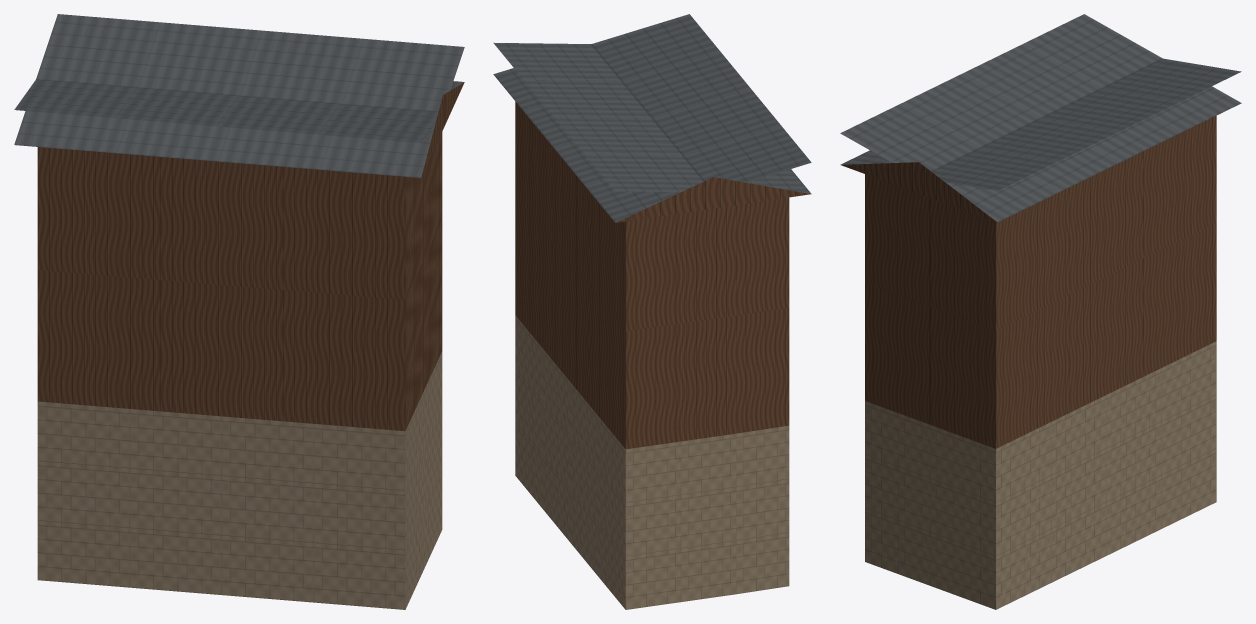
The model's file is bld_c43_45_199.gltf.
3 views of the same model, side by side, from view 1: azimuth 30°, elevation 25°; view 2: azimuth 150°, elevation 25°; view 3: azimuth 270°, elevation 25° (orthographic). The views are drawn at different scales.
Visible parts, largest first — view 1: bld_c43_45_199; view 2: bld_c43_45_199; view 3: bld_c43_45_199.
Part boxes in pixels (x1=…): bld_c43_45_199: x1=14, y1=14, x2=464, y2=609; bld_c43_45_199: x1=493, y1=14, x2=811, y2=609; bld_c43_45_199: x1=840, y1=14, x2=1241, y2=609.
Size of the model in its own units: 12.02 by 13.6 by 11.54.
Materials: 4 (4 with a texture image).
